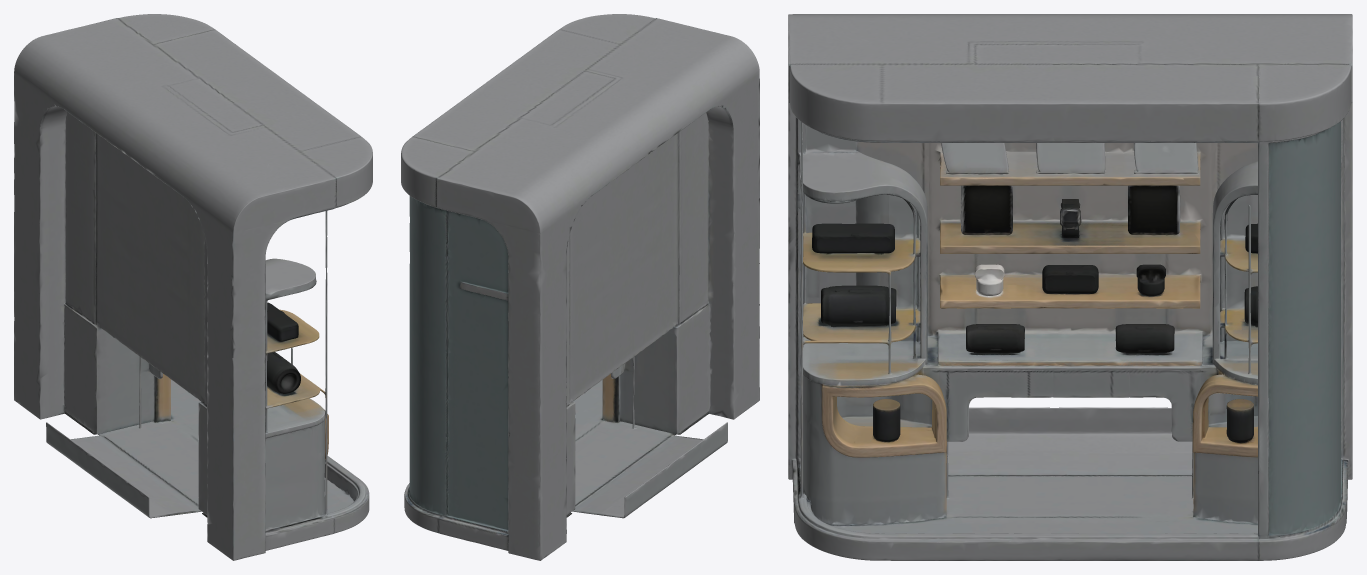
Rendered from front_cloth_w.glb.
3 renders of one model, left to right at view 1: azimuth 30°, elevation 25°; view 2: azimuth 150°, elevation 25°; view 3: azimuth 270°, elevation 25°, orthographic. The views are drawn at different scales.
Visible parts, largest first — view 1: tripo_node_e9c7b41d-e00e-47ac-931f-928e804d7f1a; view 2: tripo_node_e9c7b41d-e00e-47ac-931f-928e804d7f1a; view 3: tripo_node_e9c7b41d-e00e-47ac-931f-928e804d7f1a.
Boxes of the visible parts, box(x1,y1,x2,y2) form: tripo_node_e9c7b41d-e00e-47ac-931f-928e804d7f1a: box(14, 14, 372, 560); tripo_node_e9c7b41d-e00e-47ac-931f-928e804d7f1a: box(401, 14, 759, 560); tripo_node_e9c7b41d-e00e-47ac-931f-928e804d7f1a: box(788, 14, 1352, 560).
Size of the model in its own units: 1.01 by 1.8 by 2.
1 material, 1 textured.
